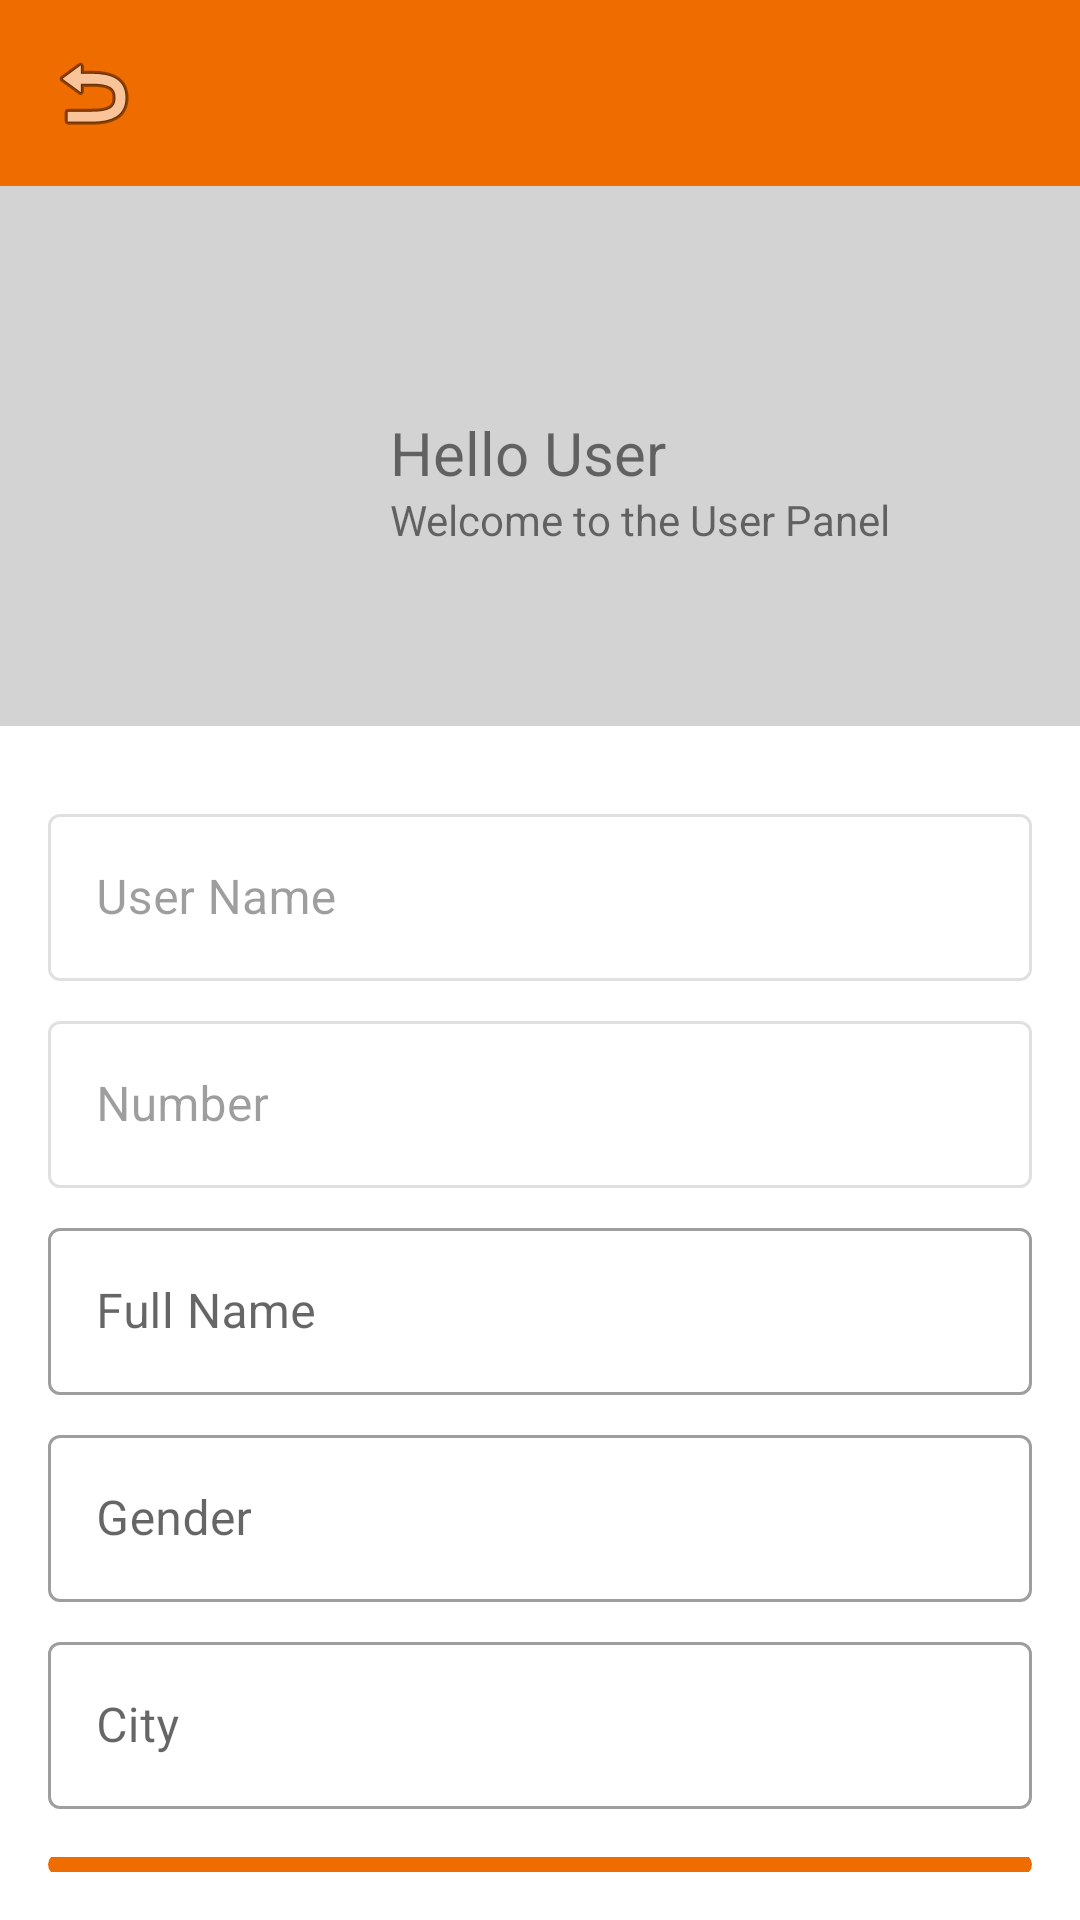

Locate icon controls on the screen. Image size 1080x1920, boxes as {"x1": x1, "y1": y1, "x2": x2, "y2": y2}.
revert: {"x1": 60, "y1": 62, "x2": 129, "y2": 125}
